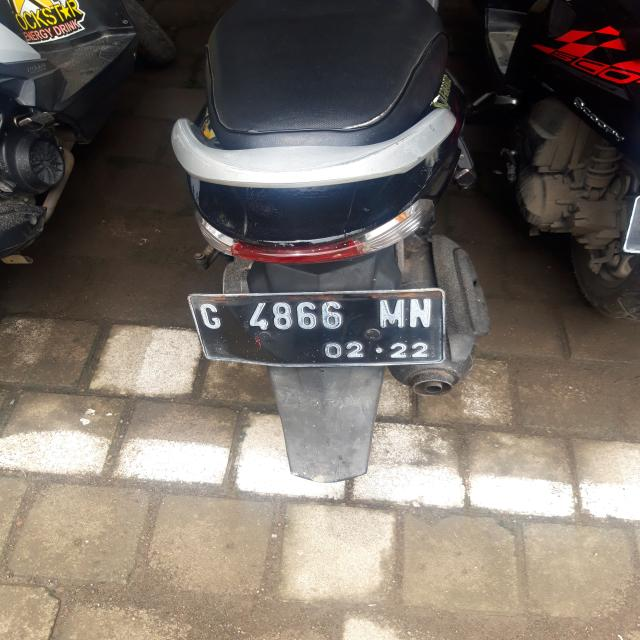plate: (190, 292, 447, 366)
